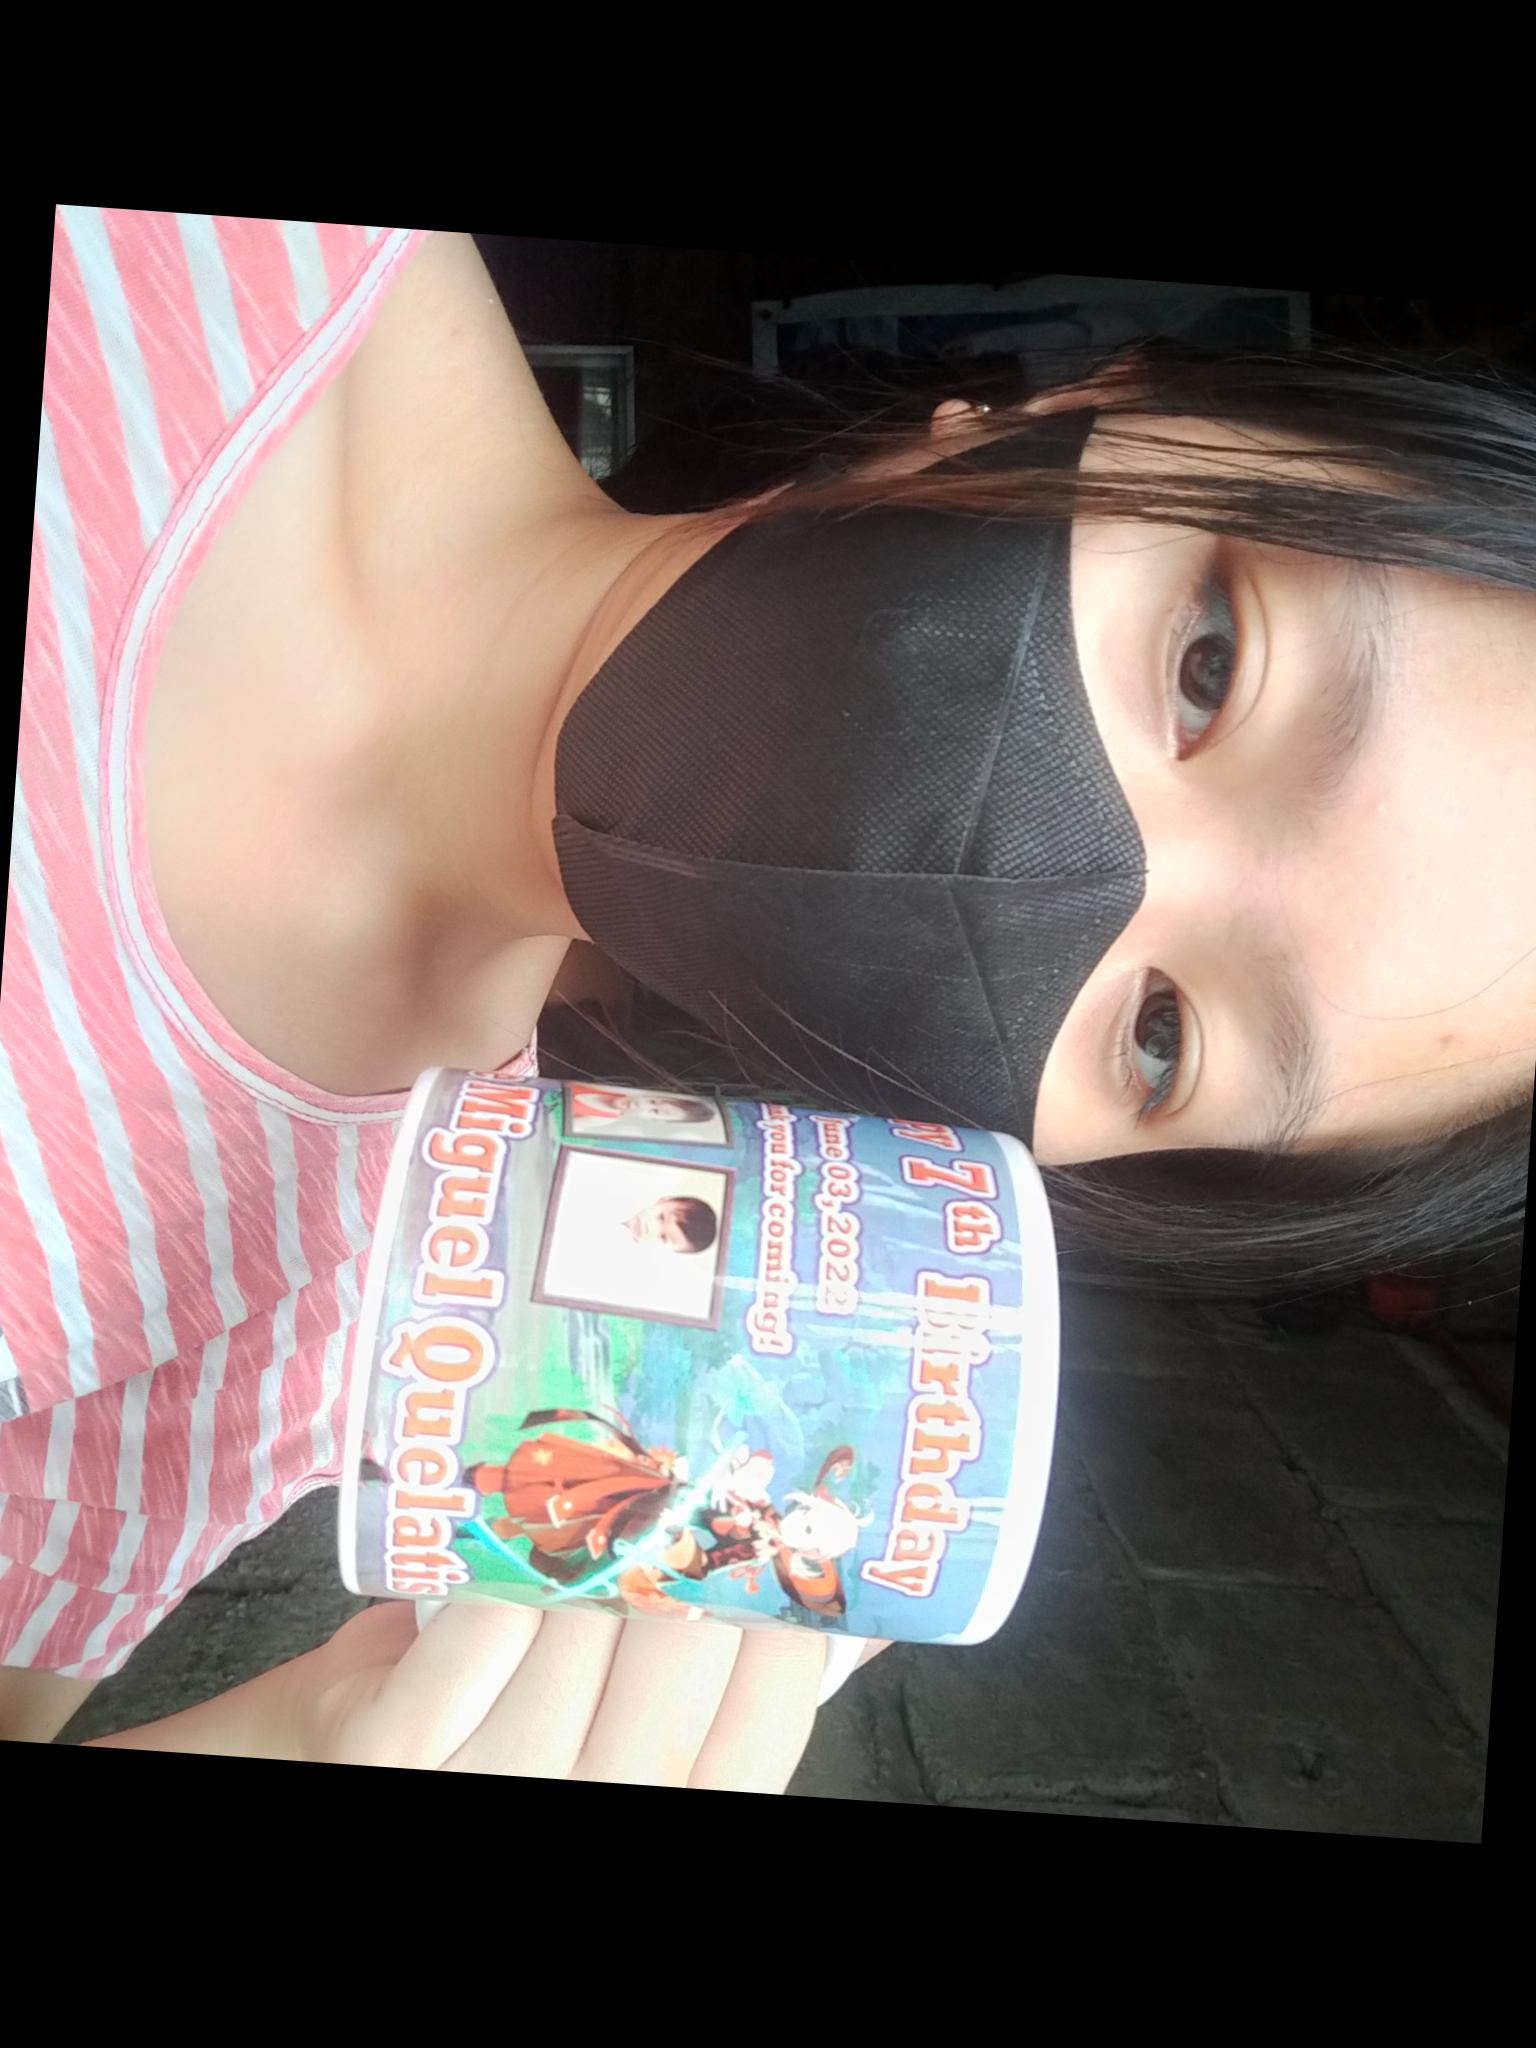Coffee Mug: (332, 1069, 1078, 1705)
